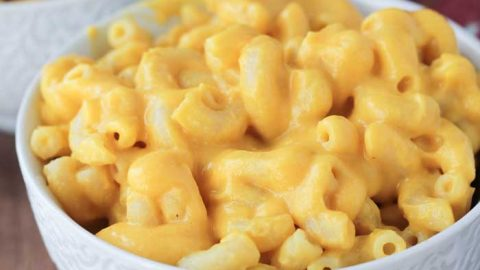cheese: (142, 44, 290, 196), (218, 175, 378, 247), (356, 44, 424, 181)
